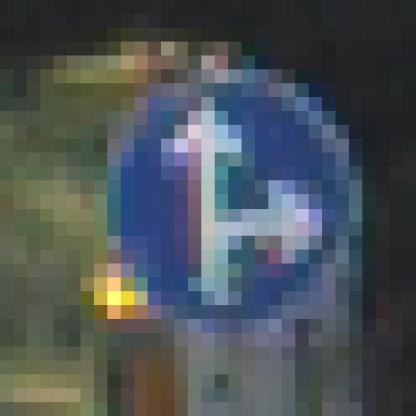Straight or Right: (81, 70, 350, 348)
